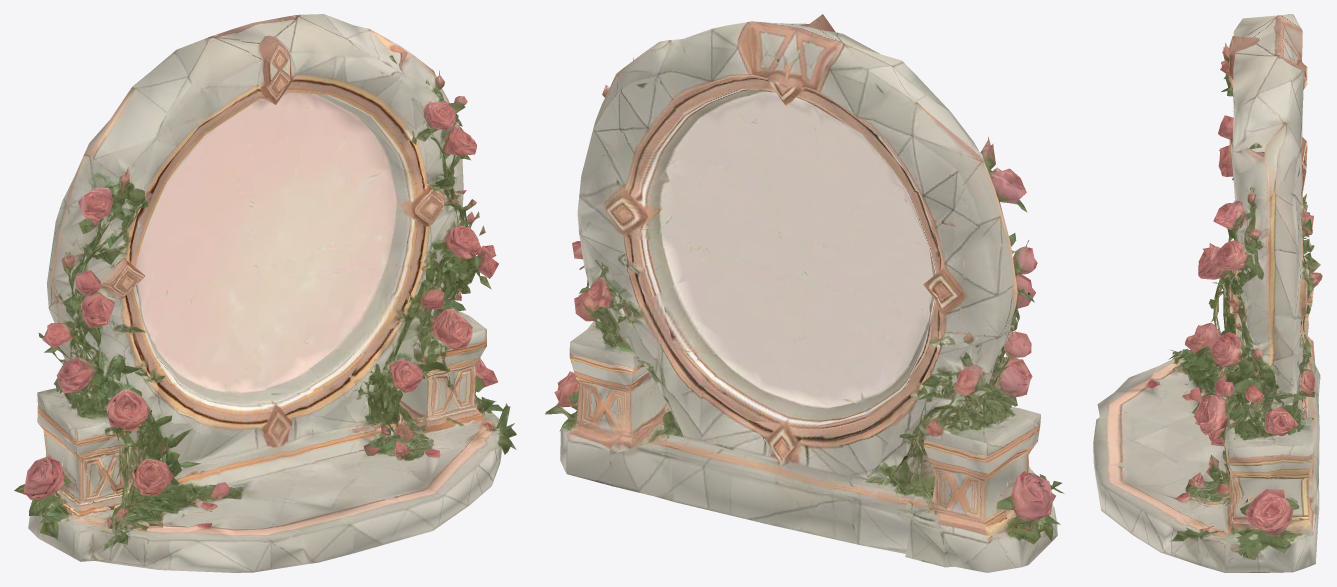
The model's file is moon-gate-portal.glb.
3 views of the same model, side by side, from view 1: azimuth 30°, elevation 25°; view 2: azimuth 150°, elevation 25°; view 3: azimuth 270°, elevation 25° (orthographic). The views are drawn at different scales.
Visible parts, largest first — view 1: Mesh_0; view 2: Mesh_0; view 3: Mesh_0.
Boxes of the visible parts, x1,y1,x2,y2 form: Mesh_0: [14, 14, 516, 572]; Mesh_0: [545, 14, 1064, 572]; Mesh_0: [1093, 14, 1322, 572].
Bounding box in the file's own units: 0.1268 × 0.1196 × 0.0565.
Materials: 1 (1 with a texture image).
